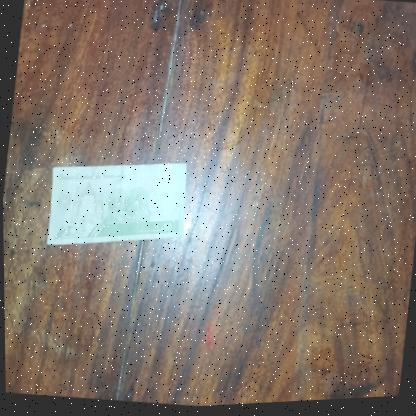vef_back: (41, 148, 192, 261)
